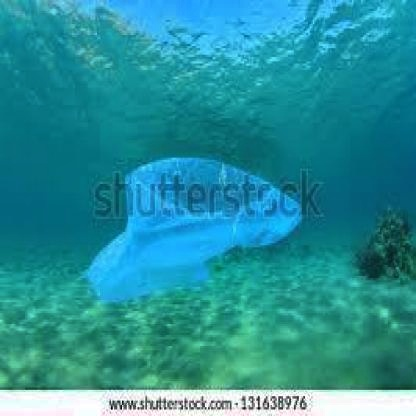pbag: (77, 156, 305, 306)
